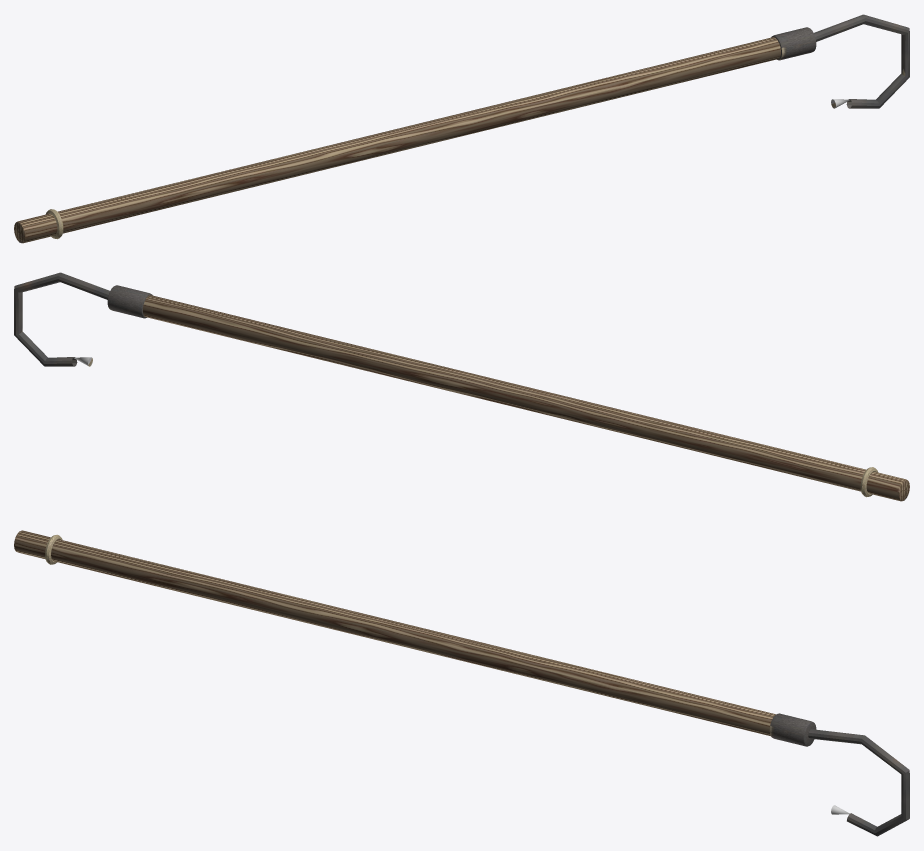
File: gaff.glb
3 renders of one model, top to bottom at view 1: azimuth 30°, elevation 25°; view 2: azimuth 150°, elevation 25°; view 3: azimuth 330°, elevation 25°, orthographic.
Parts seen in each view (by area): view 1: shaft, hook, ferrule; view 2: shaft, hook, ferrule; view 3: shaft, hook, ferrule.
Part boxes in pixels (x1=…): shaft: x1=14, y1=37, x2=780, y2=243; hook: x1=814, y1=14, x2=909, y2=108; ferrule: x1=771, y1=27, x2=816, y2=60; shaft: x1=143, y1=295, x2=909, y2=501; hook: x1=14, y1=272, x2=109, y2=366; ferrule: x1=107, y1=285, x2=152, y2=318; shaft: x1=14, y1=530, x2=775, y2=736; hook: x1=808, y1=729, x2=909, y2=836; ferrule: x1=769, y1=713, x2=816, y2=746.
Bounding box in the file's own units: 1.27 × 0.1346 × 0.038.
1 material, 1 textured.
